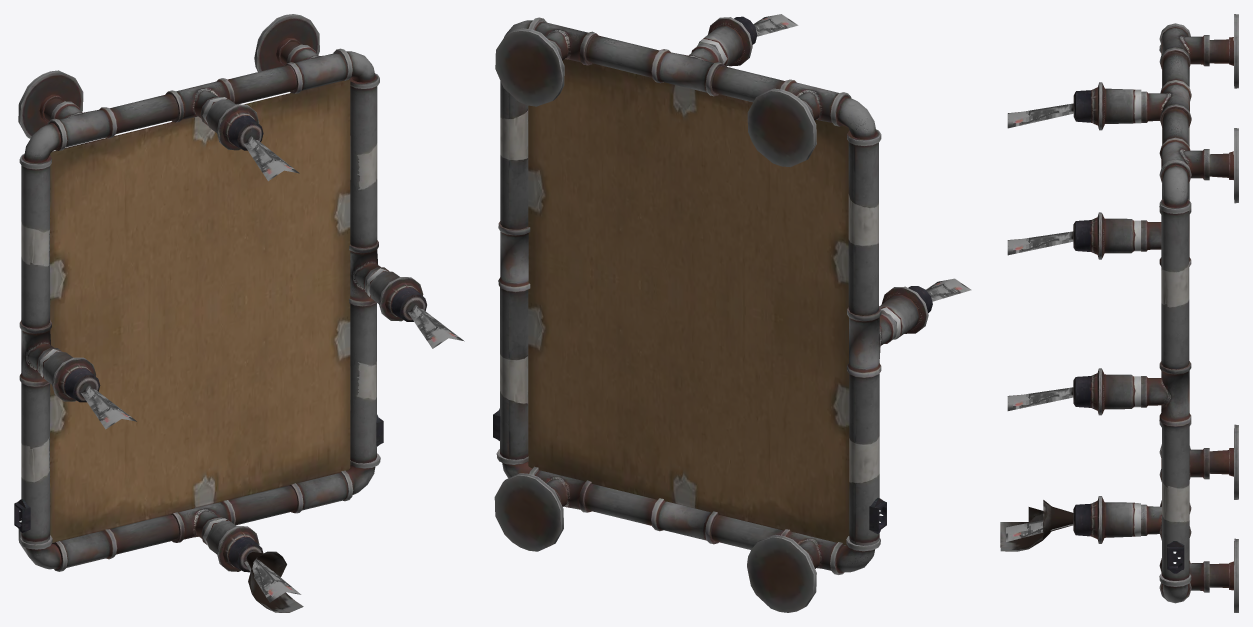
File: lightupmirror.small.glb
3 views of the same model, side by side, from view 1: azimuth 30°, elevation 25°; view 2: azimuth 150°, elevation 25°; view 3: azimuth 270°, elevation 25° (orthographic). The views are drawn at different scales.
Visible parts, largest first — view 1: mirror_04_small_LOD0; view 2: mirror_04_small_LOD0; view 3: mirror_04_small_LOD0.
Boxes of the visible parts, bbox=[...] form: mirror_04_small_LOD0: bbox=[14, 14, 464, 612]; mirror_04_small_LOD0: bbox=[493, 14, 971, 612]; mirror_04_small_LOD0: bbox=[1000, 14, 1238, 612].
Bounding box in the file's own units: 0.6916 × 0.8727 × 0.394.
Materials: 2 (2 with a texture image).
